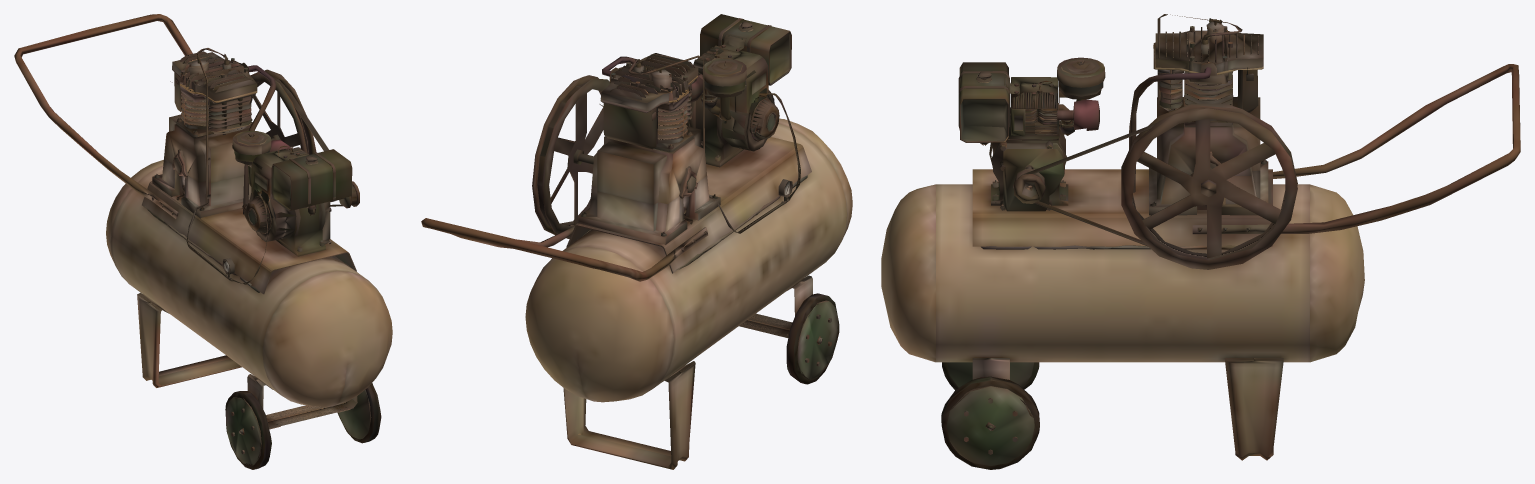
Rendered from old_military_compressor_lod2.glb.
The picture shows the model from 3 angles, left to right: view 1: azimuth 30°, elevation 25°; view 2: azimuth 150°, elevation 25°; view 3: azimuth 270°, elevation 25°; orthographic projection. The views are drawn at different scales.
Visible parts, largest first — view 1: old_military_compressor; view 2: old_military_compressor; view 3: old_military_compressor.
Part boxes in pixels (box(x1,y1,x2,y2)): old_military_compressor: box(14, 14, 392, 469); old_military_compressor: box(421, 14, 852, 469); old_military_compressor: box(881, 14, 1520, 469).
Size of the model in its own units: 0.5956 by 1.18 by 1.67.
2 materials, 2 textured.
